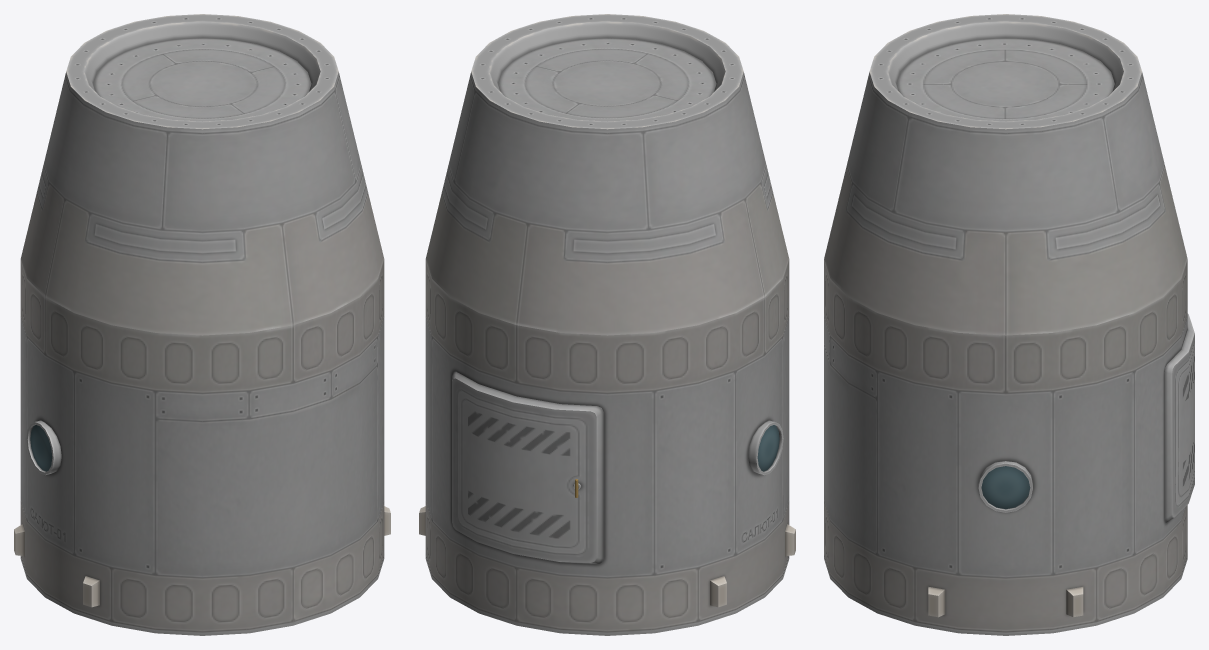
The model's file is Vega_Habitation_1.obj.
3 views of the same model, side by side, from view 1: azimuth 30°, elevation 25°; view 2: azimuth 150°, elevation 25°; view 3: azimuth 270°, elevation 25° (orthographic).
Parts seen in each view (by area): view 1: Vega_Habitation_1, Vega_Habitation_1_Windows; view 2: Vega_Habitation_1, Vega_Habitation_1_Windows; view 3: Vega_Habitation_1, Vega_Habitation_1_Windows.
Part boxes in pixels (x1,y1,x2,y2): Vega_Habitation_1: (14, 14, 390, 635); Vega_Habitation_1_Windows: (30, 425, 52, 471); Vega_Habitation_1: (419, 14, 795, 635); Vega_Habitation_1_Windows: (757, 425, 779, 471); Vega_Habitation_1: (824, 14, 1194, 635); Vega_Habitation_1_Windows: (981, 466, 1030, 509).
Bounding box in the file's own units: 1.29 × 1.85 × 1.27.
